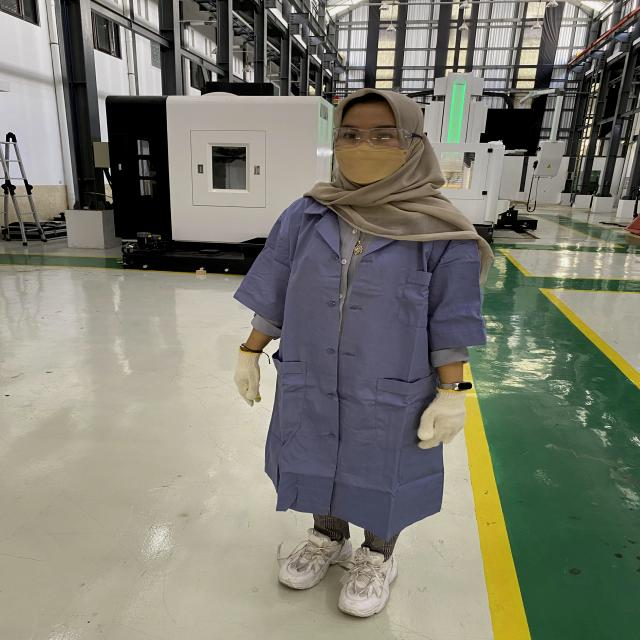face_mask: (331, 120, 404, 182)
glasses: (326, 124, 426, 150)
hand_glove: (412, 391, 472, 453), (224, 343, 270, 410)
head_nohelmet: (337, 77, 422, 119)
person: (226, 79, 490, 640)
shoes: (316, 532, 406, 622), (272, 523, 359, 597)
